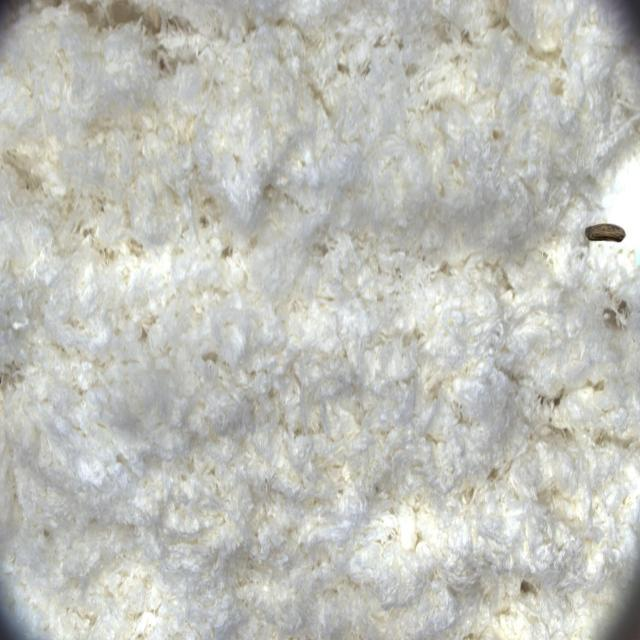dust: (568, 191, 639, 282)
